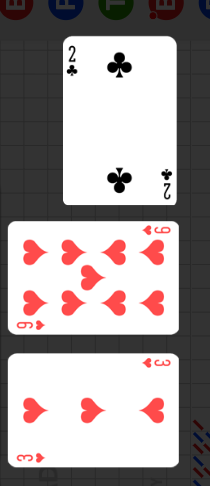2C: (66, 44, 80, 79)
3H: (16, 451, 48, 464)
9H: (141, 224, 172, 237)
